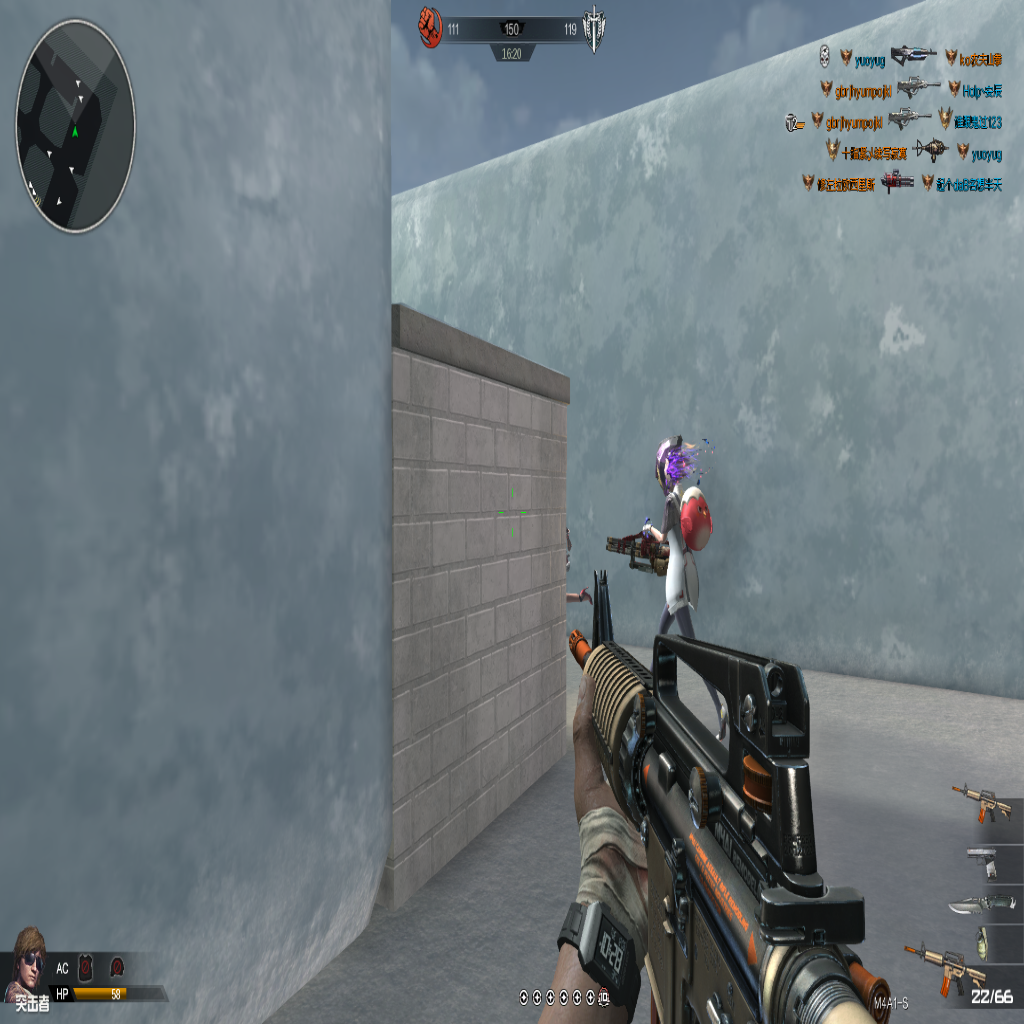tt: (647, 430, 711, 629)
